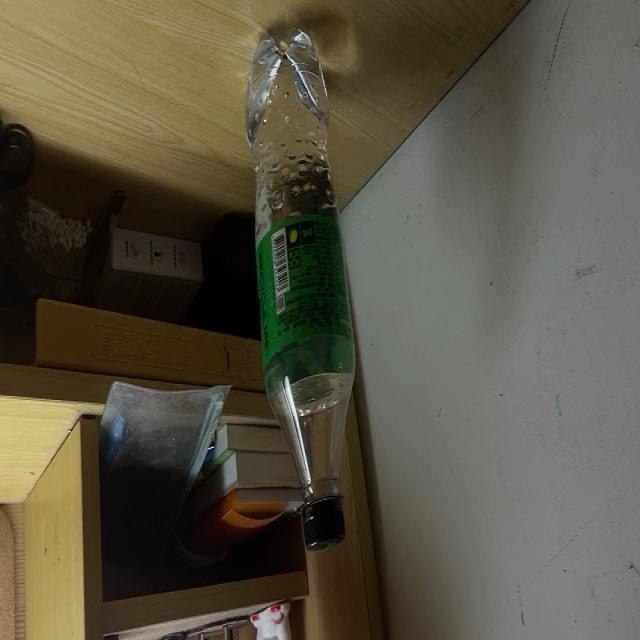Sprite: (244, 27, 357, 551)
